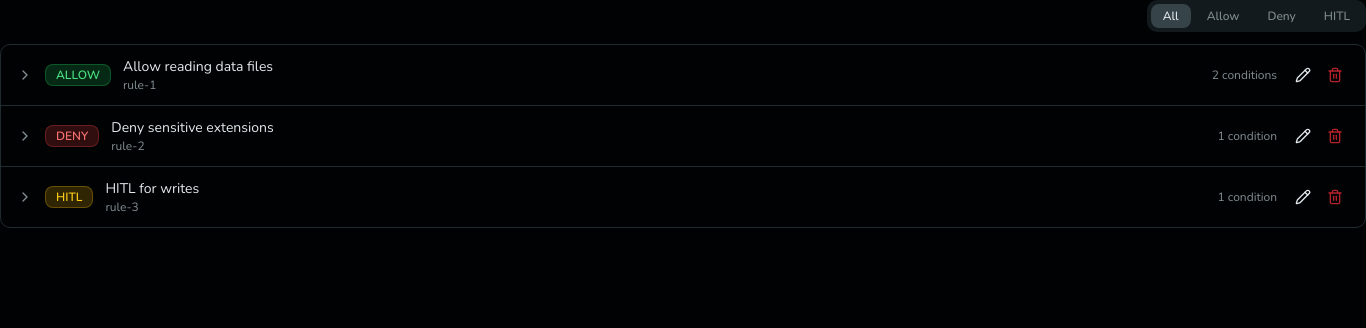
Scenario: PolicyRulesList › expansion › shows approval caching indicator for expanded hitl rule with cache_side_effects
Click the button "hitl HITL for writes rule-3 1 condition": (69,197) left=1, top=167, right=1365, bottom=227
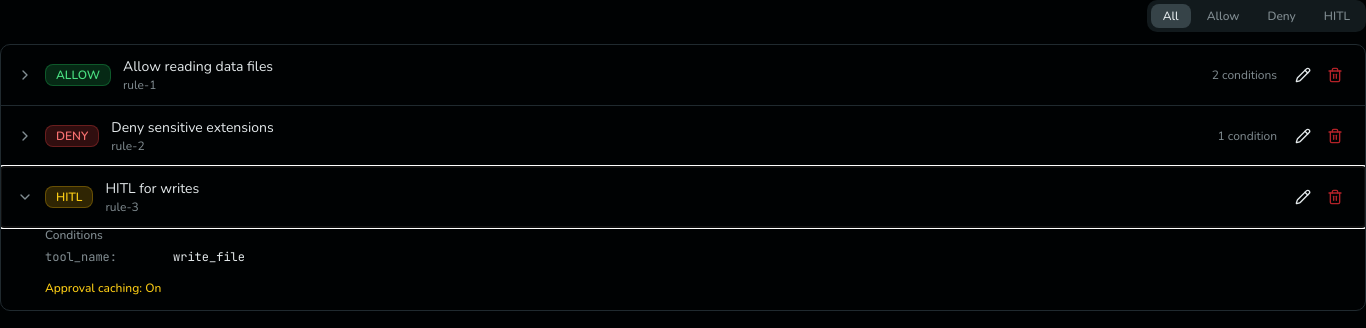
Check: the text "Approval caching: On" is shown, box left=45, top=280, right=161, bottom=296
